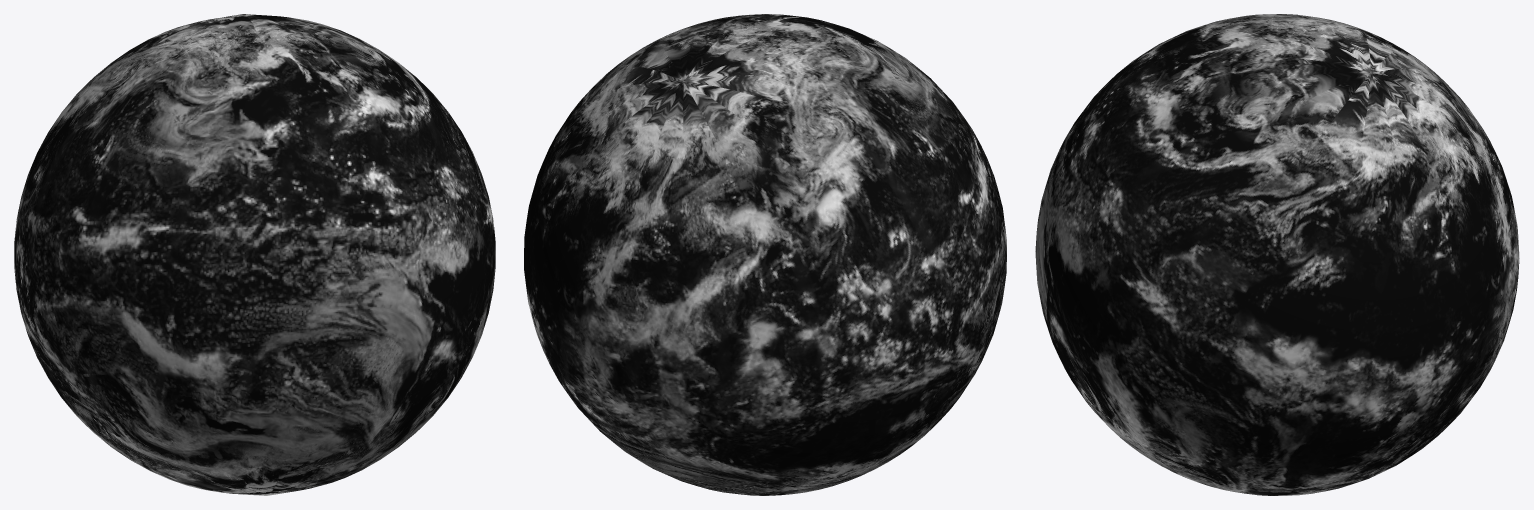
Rendered from sm_earth.glb.
3 views of the same model, side by side, from view 1: azimuth 30°, elevation 25°; view 2: azimuth 150°, elevation 25°; view 3: azimuth 270°, elevation 25° (orthographic).
Visible parts, largest first — view 1: atmos.001; view 2: atmos.001; view 3: atmos.001.
Part boxes in pixels (x1,y1,x2,y2): atmos.001: (14, 14, 495, 495); atmos.001: (524, 14, 1006, 495); atmos.001: (1035, 14, 1519, 495).
Size of the model in its own units: 1314 by 1310 by 1314.
3 materials, 2 textured.
